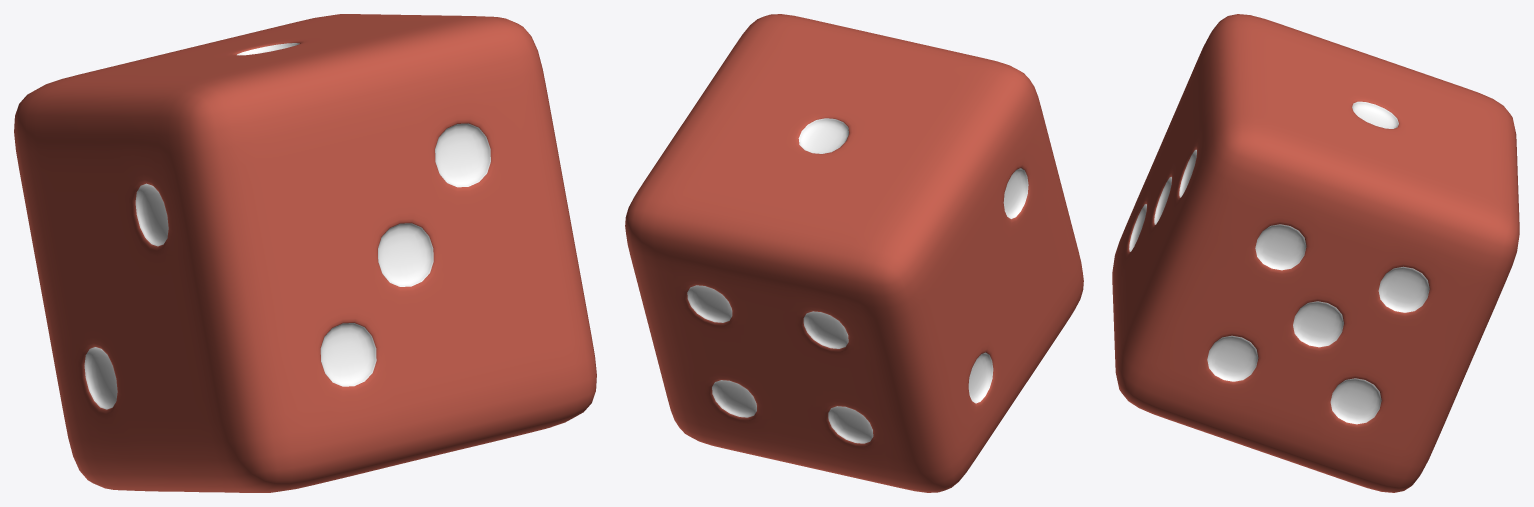
The model's file is die_red.glb.
3 renders of one model, left to right at view 1: azimuth 30°, elevation 25°; view 2: azimuth 150°, elevation 25°; view 3: azimuth 270°, elevation 25°, orthographic. The views are drawn at different scales.
Visible parts, largest first — view 1: DieRed; view 2: DieRed; view 3: DieRed.
Part boxes in pixels (left/top/right/bottom): DieRed: left=14, top=14, right=596, bottom=492; DieRed: left=625, top=14, right=1083, bottom=492; DieRed: left=1112, top=14, right=1519, bottom=492.
Size of the model in its own units: 1.01 by 1.23 by 1.23.
1 material, 1 textured.
